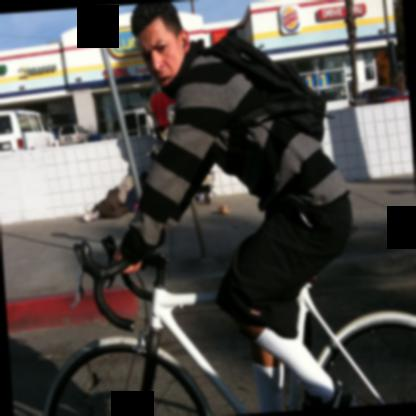backpack: (210, 31, 327, 144)
